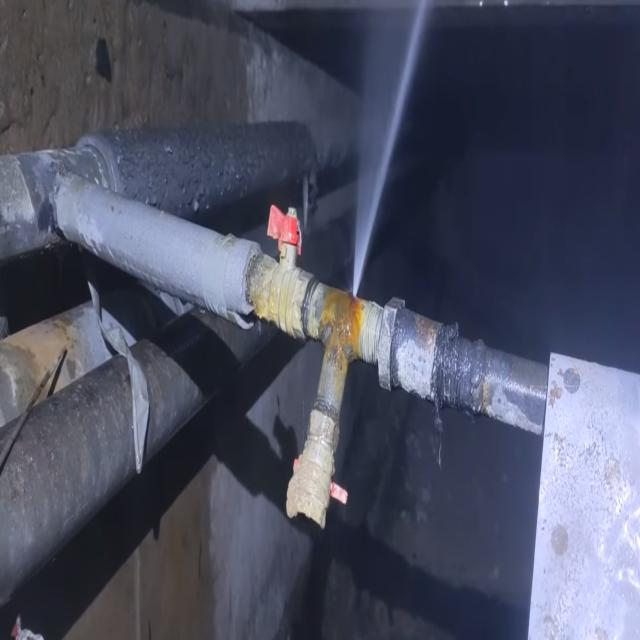leak: (352, 0, 428, 295)
